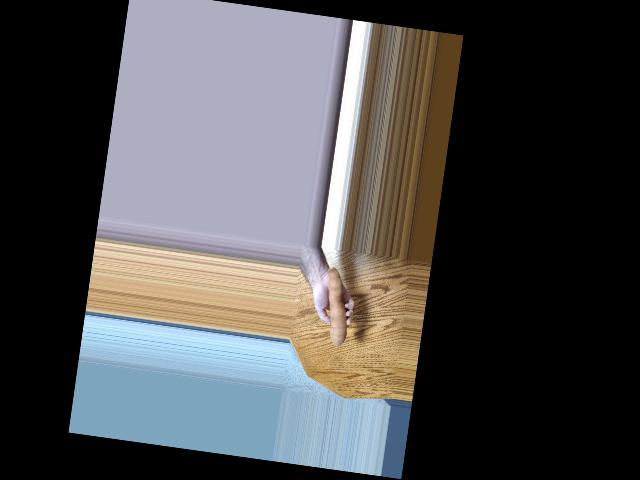sweet_potato: (315, 270, 358, 351)
